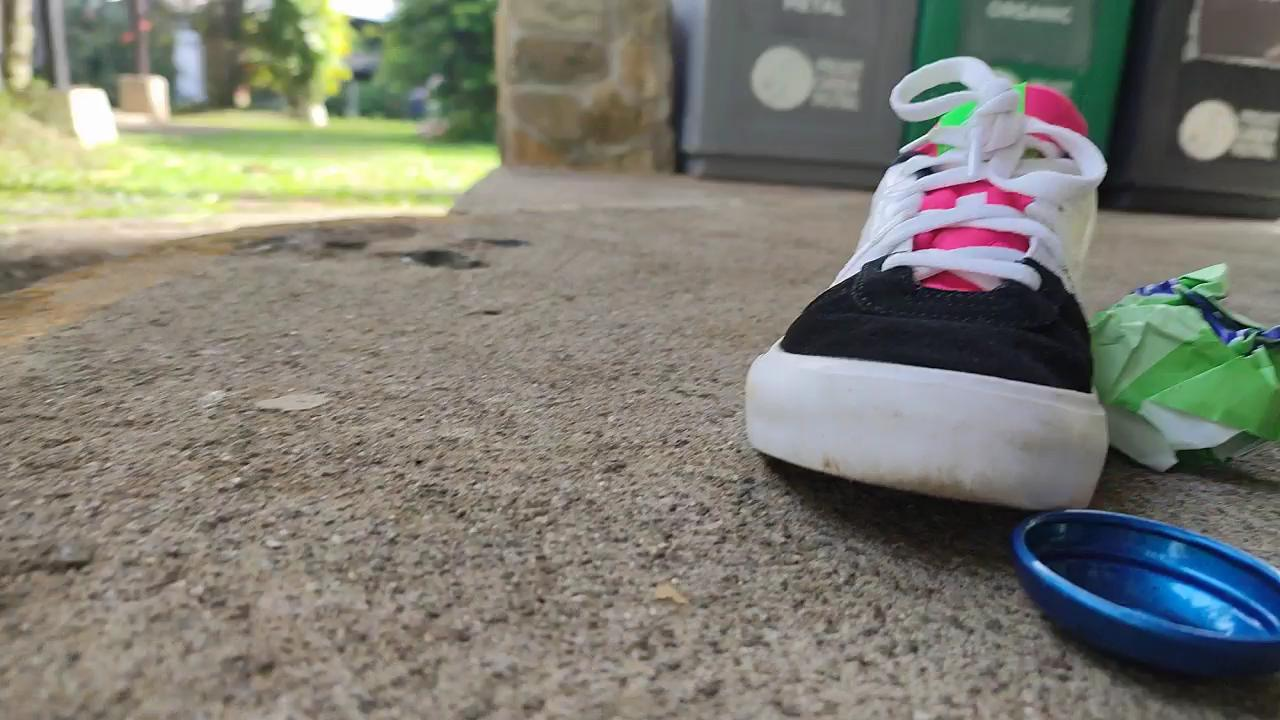Paper: (1073, 251, 1280, 475)
